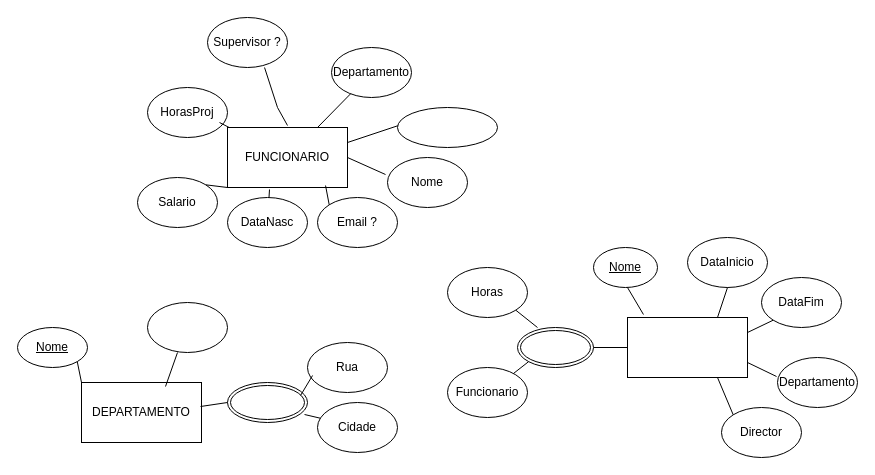
Some shapes in this 875 by 475 pixel diagram are drawn without their labels. Here are the shapes that lost their labels. From the top down, the centre of each, then its label:
At point 447,127: "NumCC".
At point 187,327: "Gerente".
At point 555,347: "Trabalho".
At point 687,347: "PROJECTO".
At point 267,402: "Localização".
